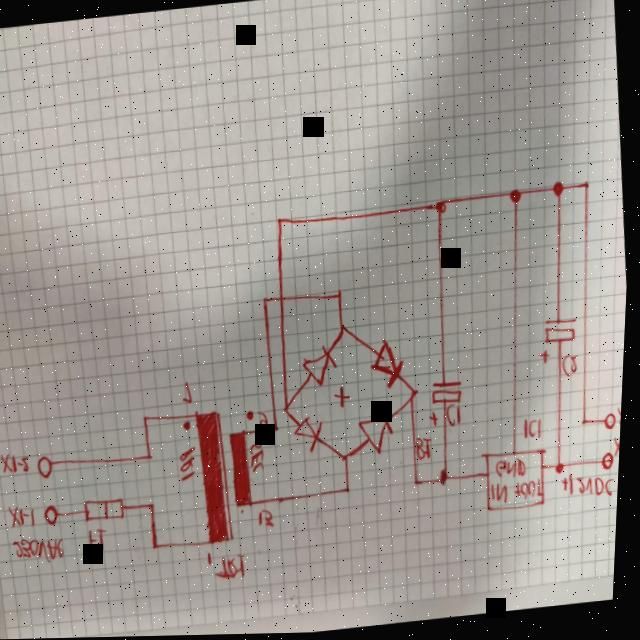capacitor: (534, 316, 582, 367), (427, 379, 467, 430)
crossover: (277, 295, 287, 306)
diode: (355, 405, 401, 461), (369, 337, 411, 393), (299, 343, 342, 391), (293, 414, 327, 456)
junction: (506, 189, 523, 209), (551, 182, 566, 201), (433, 201, 449, 218), (440, 471, 452, 488), (555, 462, 568, 477), (342, 451, 354, 466), (338, 323, 350, 338), (148, 499, 160, 513), (411, 388, 422, 403), (153, 540, 164, 553), (142, 412, 153, 425), (146, 451, 157, 464), (335, 289, 345, 302), (275, 216, 285, 228), (581, 418, 591, 430), (345, 486, 355, 497), (273, 424, 283, 435), (581, 182, 591, 193), (284, 405, 293, 416), (415, 479, 424, 490), (261, 296, 269, 307)
terminal: (36, 451, 60, 483), (44, 503, 64, 528), (604, 413, 621, 434), (602, 455, 617, 474)
text: (562, 471, 620, 505), (14, 533, 70, 567), (216, 553, 251, 584), (0, 450, 34, 477), (9, 502, 39, 532), (495, 459, 530, 483), (515, 479, 547, 504), (179, 448, 201, 483), (249, 439, 269, 474), (89, 526, 110, 556), (523, 418, 547, 444), (416, 437, 437, 464), (561, 355, 582, 380), (492, 483, 513, 508), (259, 508, 280, 531), (333, 387, 354, 410), (447, 404, 465, 429), (181, 379, 196, 407), (612, 438, 624, 464), (257, 412, 271, 431), (616, 407, 625, 430), (209, 551, 217, 568)
transformer: (176, 403, 267, 550)
